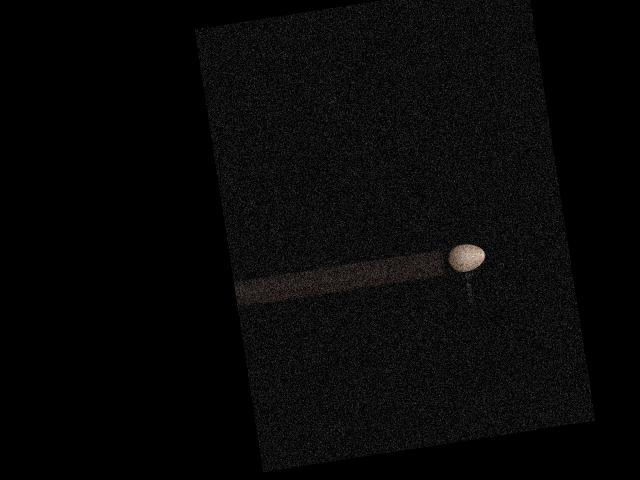egg: (446, 241, 487, 273)
